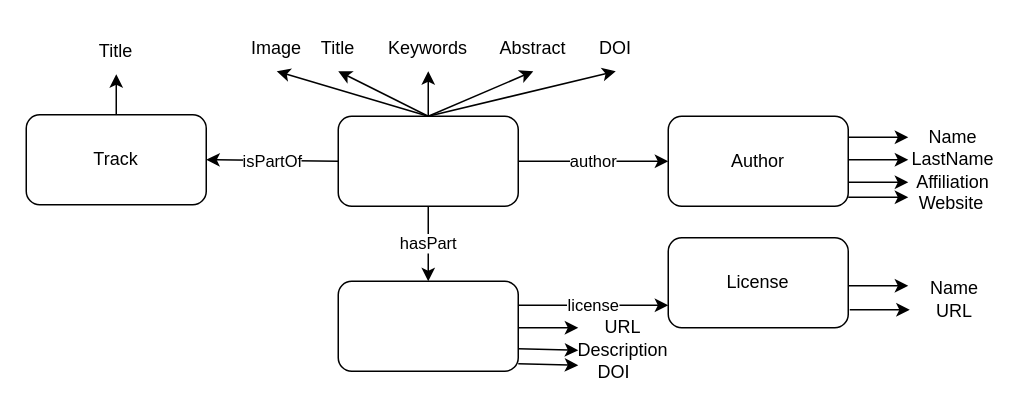
Image size: 1026x420. Some labels were removed from this diagram. The box of each missing label's shape, as (x1, y1, x2, y2) in pixels:
Paper: (337, 115, 518, 206)
Resource (SourceCode, Dataset,Ontology, Demo): (337, 280, 518, 371)
